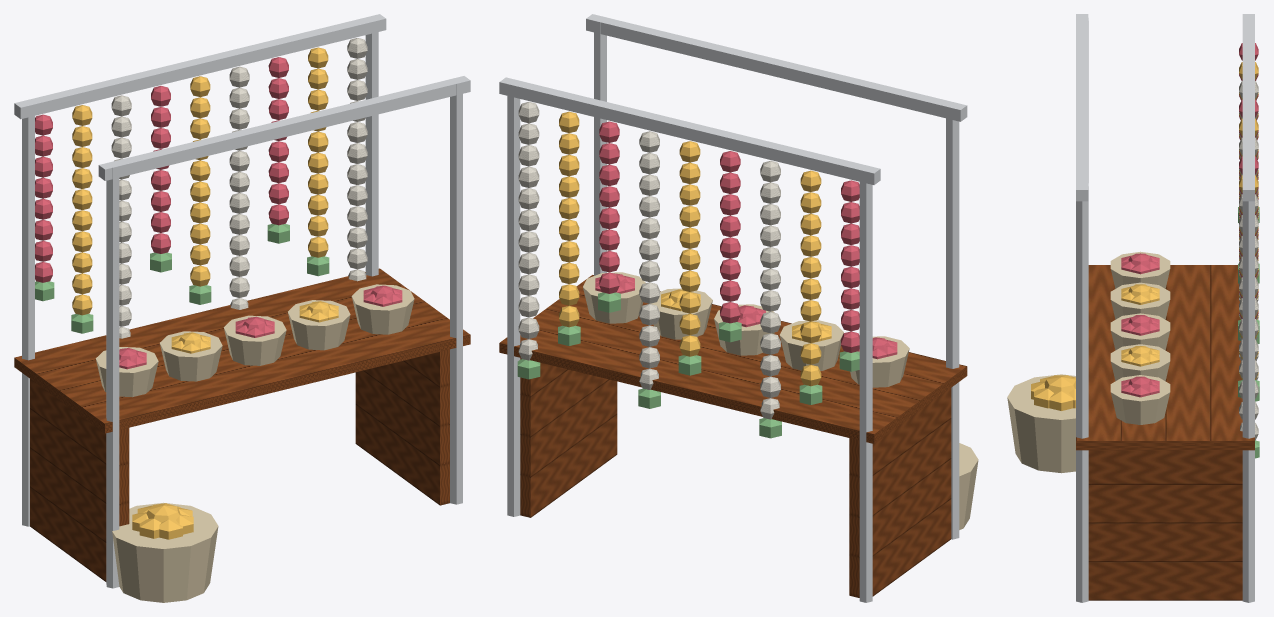
The model's file is indian-bazaar-street-and-temple-flower-garland-stall-1de92b5c.glb.
The picture shows the model from 3 angles, left to right: view 1: azimuth 30°, elevation 25°; view 2: azimuth 150°, elevation 25°; view 3: azimuth 270°, elevation 25°; orthographic projection. The views are drawn at different scales.
Visible parts, largest first — view 1: flower-garland-stall-timber, flower-garland-stall-steel, flower-garland-stall-jute, flower-garland-stall-saffron, flower-garland-stall-plaster, flower-garland-stall-crimson, flower-garland-stall-leaf; view 2: flower-garland-stall-timber, flower-garland-stall-steel, flower-garland-stall-plaster, flower-garland-stall-saffron, flower-garland-stall-crimson, flower-garland-stall-jute, flower-garland-stall-leaf; view 3: flower-garland-stall-timber, flower-garland-stall-steel, flower-garland-stall-jute, flower-garland-stall-saffron, flower-garland-stall-crimson, flower-garland-stall-plaster, flower-garland-stall-leaf.
Part boxes in pixels (left/top/right/bottom): flower-garland-stall-timber: left=14, top=268, right=470, bottom=581; flower-garland-stall-steel: left=14, top=14, right=470, bottom=588; flower-garland-stall-jute: left=95, top=284, right=414, bottom=602; flower-garland-stall-saffron: left=72, top=47, right=338, bottom=539; flower-garland-stall-plaster: left=111, top=38, right=367, bottom=338; flower-garland-stall-crimson: left=35, top=57, right=402, bottom=369; flower-garland-stall-leaf: left=35, top=224, right=329, bottom=333; flower-garland-stall-timber: left=499, top=275, right=967, bottom=597; flower-garland-stall-steel: left=499, top=14, right=967, bottom=602; flower-garland-stall-plaster: left=518, top=102, right=780, bottom=419; flower-garland-stall-saffron: left=559, top=111, right=831, bottom=386; flower-garland-stall-crimson: left=595, top=121, right=897, bottom=359; flower-garland-stall-jute: left=583, top=272, right=978, bottom=529; flower-garland-stall-leaf: left=517, top=292, right=859, bottom=438; flower-garland-stall-timber: left=1076, top=265, right=1254, bottom=600; flower-garland-stall-steel: left=1076, top=14, right=1254, bottom=602; flower-garland-stall-jute: left=1007, top=251, right=1170, bottom=473; flower-garland-stall-saffron: left=1031, top=62, right=1258, bottom=410; flower-garland-stall-crimson: left=1121, top=43, right=1258, bottom=397; flower-garland-stall-plaster: left=1239, top=81, right=1258, bottom=440; flower-garland-stall-leaf: left=1238, top=207, right=1259, bottom=458.
Bounding box in the file's own units: 2 × 2.2 × 1.21.
7 materials, 2 textured.
